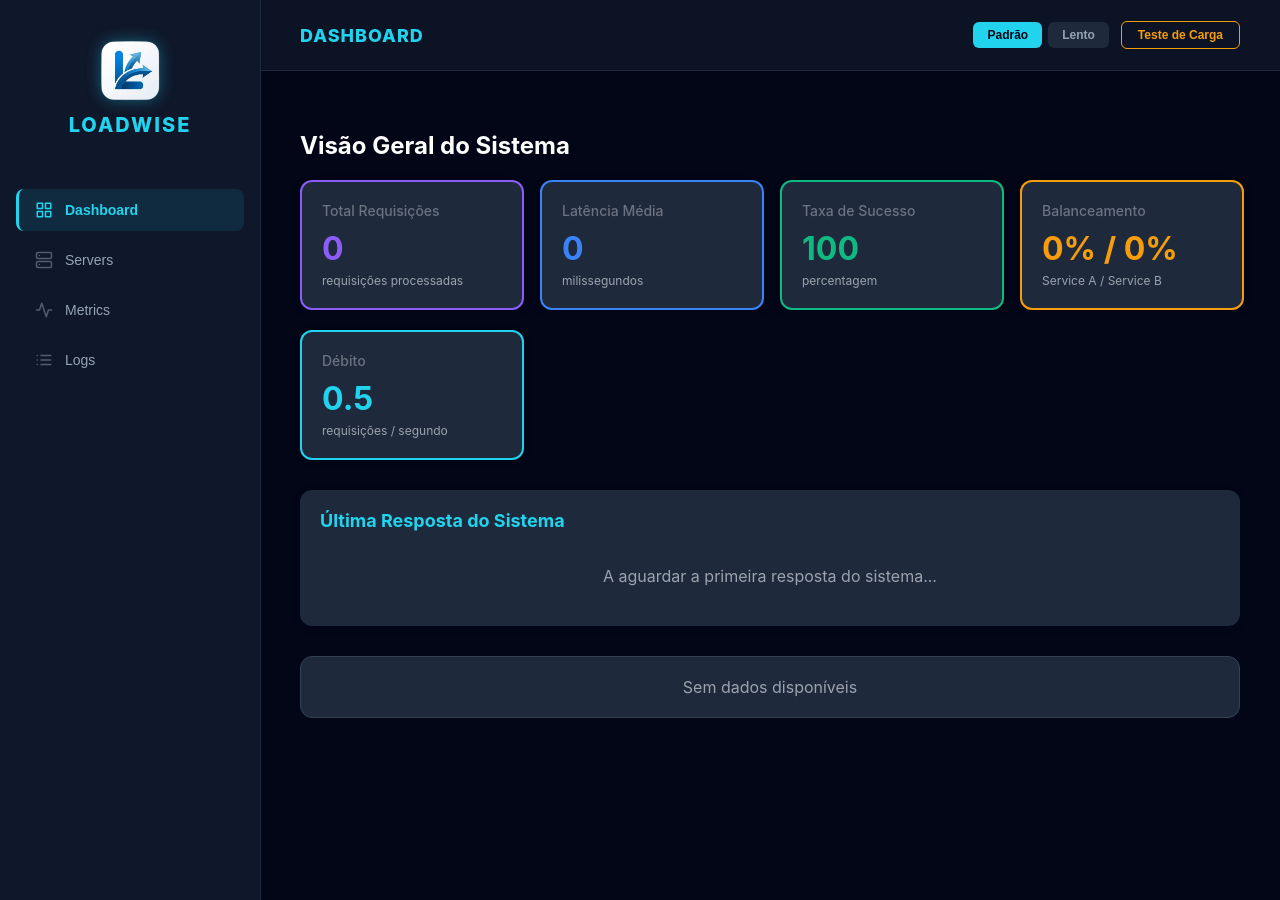
Scenario: navigates to Servers page on click
Click the button "Servers": point(130, 260) x1=16 y1=238 x2=244 y2=280
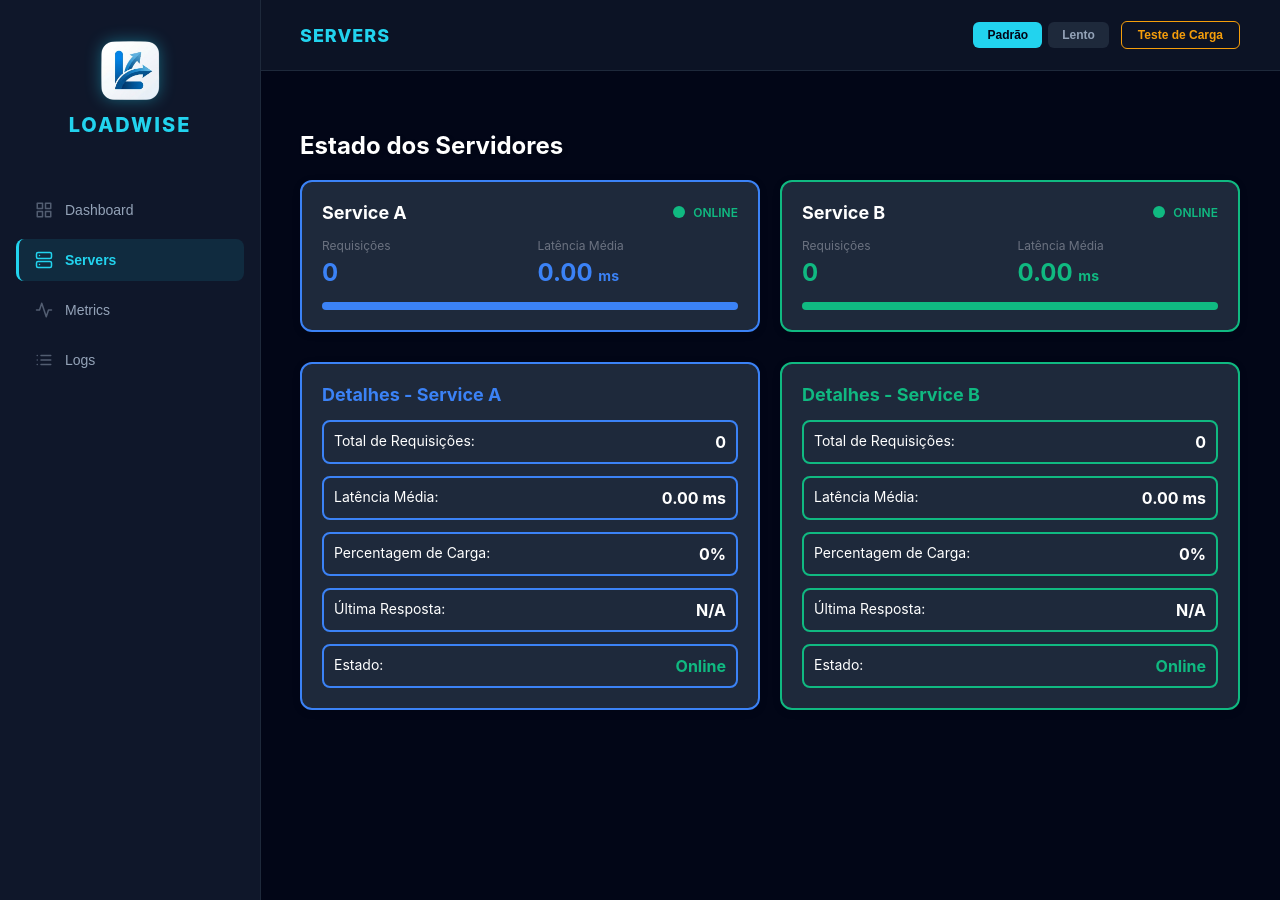
Expected: the heading "Estado dos Servidores" is shown, x1=300 y1=131 x2=563 y2=160
